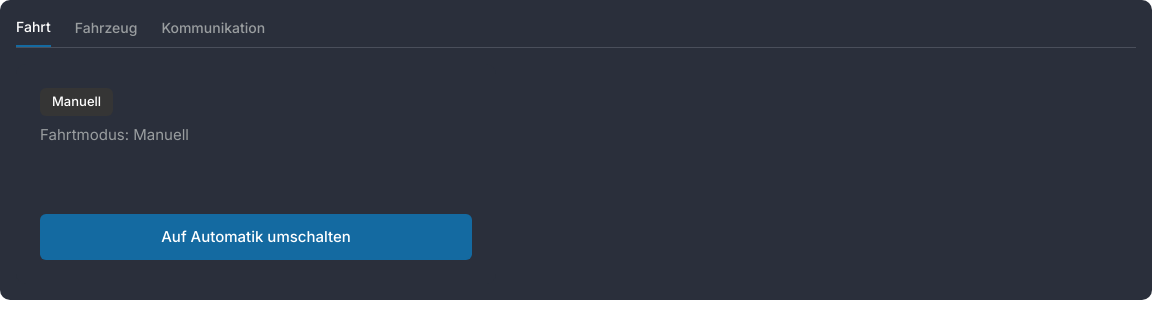
Test case: AktionenPanel — Tab-Wechsel zu Fahrzeug › Klick auf "Fahrzeug" Tab zeigt FahrzeugAktionCards
The image size is (1152, 317).
Click the button "Fahrzeug".
click(106, 32)  # box [75,16,137,47]
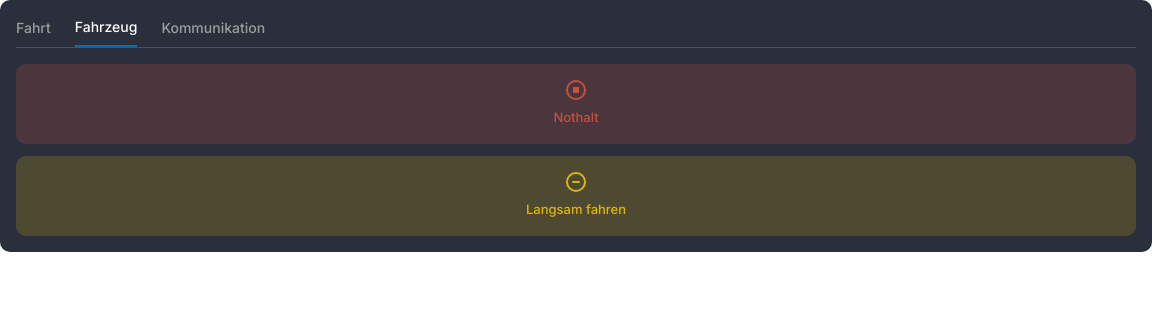
Check: the button "Nothalt" is shown, box [16,64,1136,144]
Check: the button "Langsam fahren" is shown, box [16,156,1136,236]
